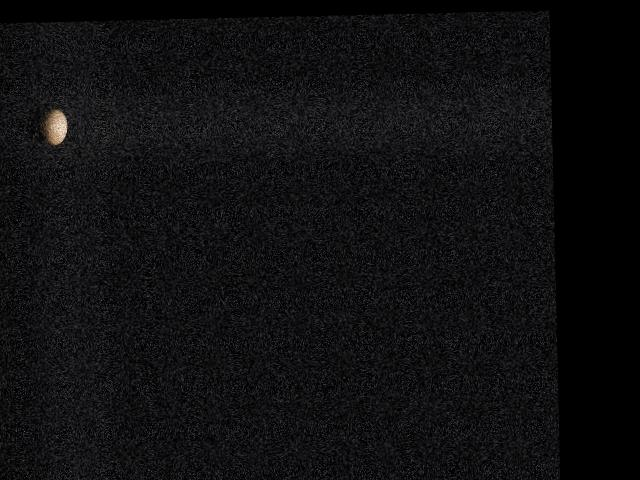egg: (40, 107, 68, 146)
